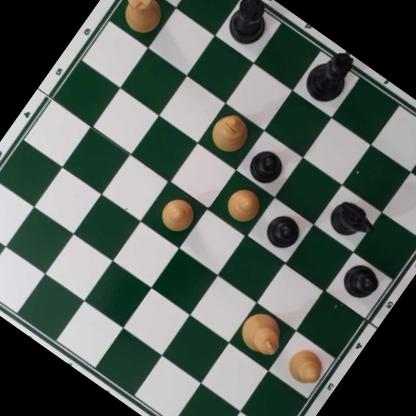black-king: (297, 41, 363, 112)
black-knight: (326, 196, 378, 247)
black-pawn: (243, 140, 291, 189), (337, 257, 385, 305), (260, 208, 307, 255)
black-rook: (219, 0, 279, 52)
white-bishop: (204, 104, 258, 160)
white-king: (233, 304, 292, 362)
white-pawn: (280, 341, 331, 391), (220, 180, 267, 228), (155, 191, 200, 236)
white-rook: (110, 0, 173, 41)
